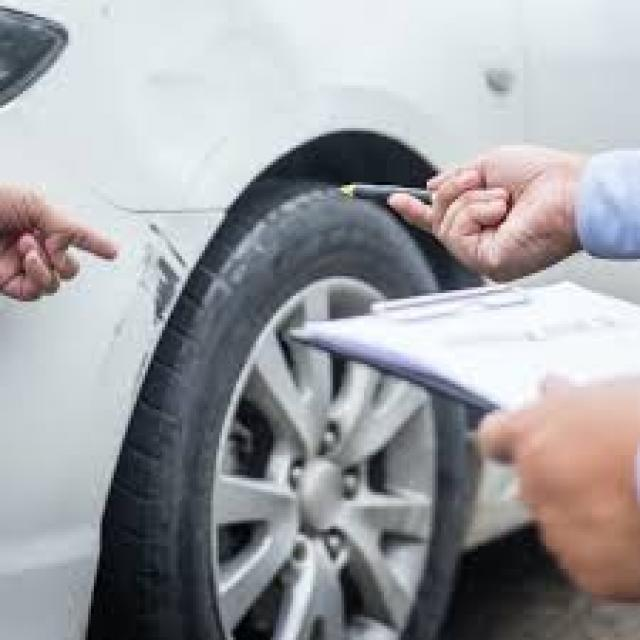dent-or-scratch: (120, 222, 190, 338), (470, 63, 516, 109)
